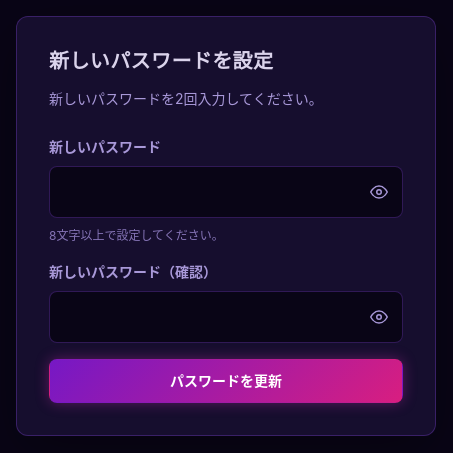
Scenario: ResetPasswordPage › uidとtokenを送信して完了状態を表示する
Type "NewPass123!" into the password field labelled "新しいパスワード".
click(226, 192); type("NewPass123!")  # box [49,166,403,218]
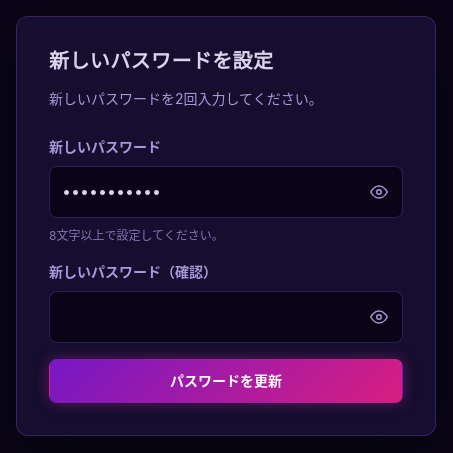
Type "NewPass123!" into the password field labelled "新しいパスワード（確認）".
click(226, 317); type("NewPass123!")  # box [49,291,403,343]
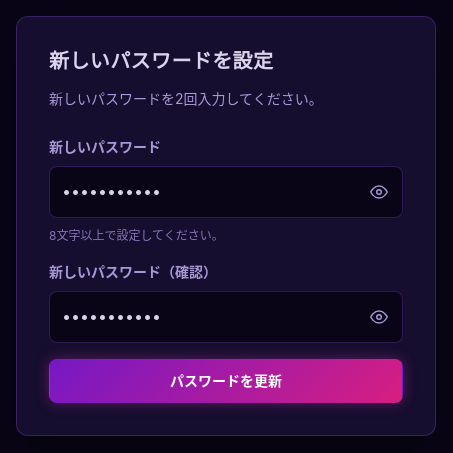
Click the button "パスワードを更新".
click(226, 381)  # box [49,359,403,403]
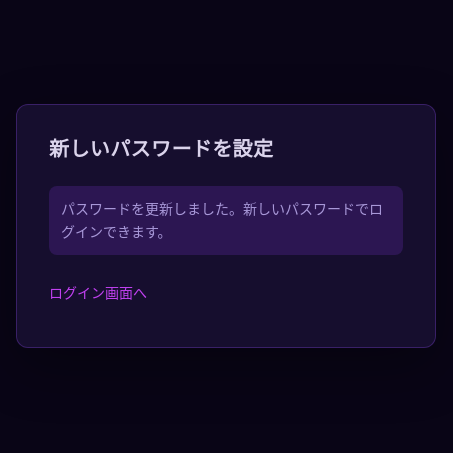
Expected: the message shows "パスワードを更新しました", [61,200,383,240]
